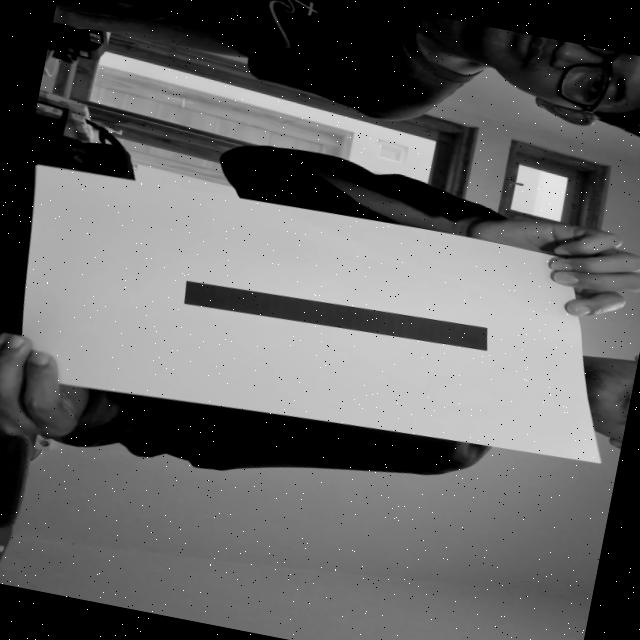i: (164, 254, 516, 386)
